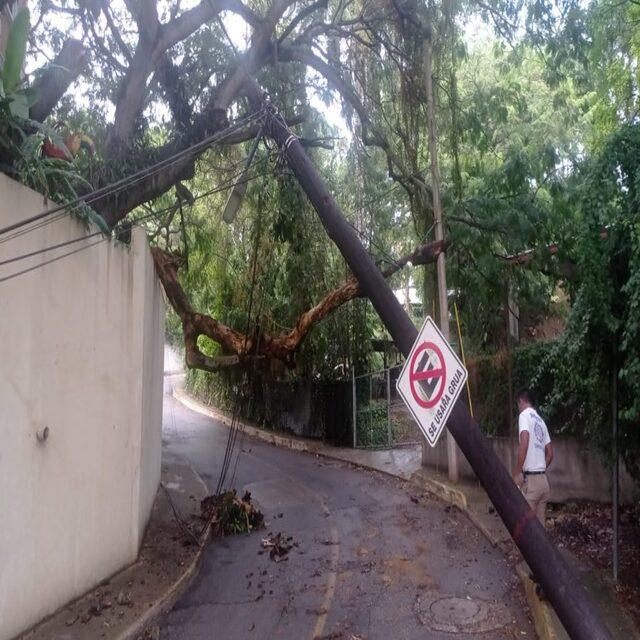Inclined Pole: (218, 67, 615, 640)
